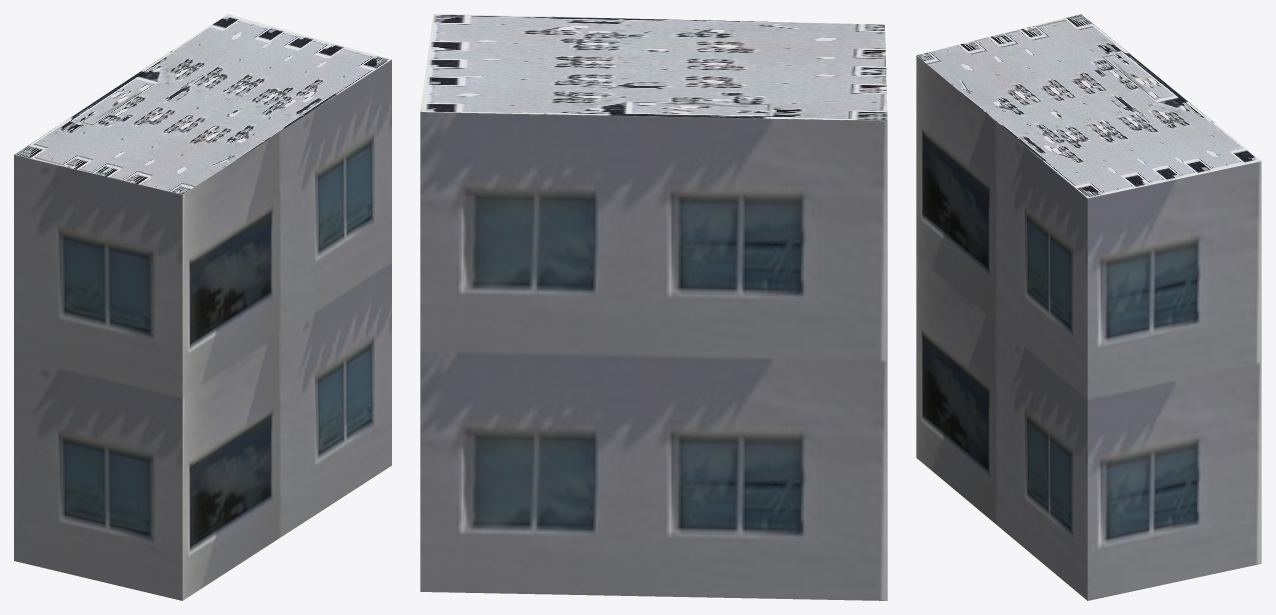
Rendered from ResTex__4775.fbx.
3 renders of one model, left to right at view 1: azimuth 30°, elevation 25°; view 2: azimuth 150°, elevation 25°; view 3: azimuth 270°, elevation 25°, orthographic. The views are drawn at different scales.
Visible parts, largest first — view 1: CityEngineMaterial_10_m, CityEngineMaterial_4_m; view 2: CityEngineMaterial_10_m, CityEngineMaterial_4_m; view 3: CityEngineMaterial_10_m, CityEngineMaterial_4_m.
Boxes of the visible parts, left/top/right/bottom form: CityEngineMaterial_10_m: left=14, top=59, right=391, bottom=600; CityEngineMaterial_4_m: left=14, top=14, right=391, bottom=194; CityEngineMaterial_10_m: left=420, top=112, right=887, bottom=600; CityEngineMaterial_4_m: left=420, top=14, right=887, bottom=120; CityEngineMaterial_10_m: left=916, top=55, right=1261, bottom=600; CityEngineMaterial_4_m: left=917, top=14, right=1260, bottom=198.
Size of the model in its own units: 5.9 by 6 by 4.66.
Materials: 2 (2 with a texture image).
